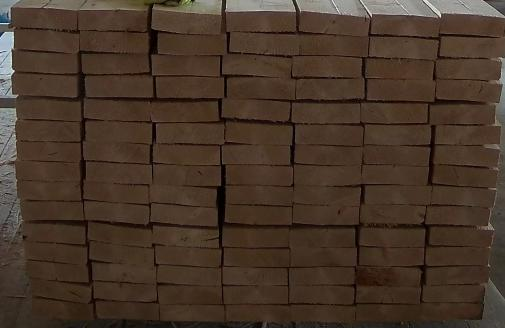Wood-Plank: (11, 72, 80, 98), (371, 36, 440, 60), (223, 54, 292, 78), (12, 50, 80, 74), (85, 74, 153, 98), (153, 9, 221, 33), (230, 31, 300, 54), (300, 33, 369, 56), (299, 11, 367, 34), (16, 96, 81, 120), (151, 203, 218, 226), (371, 13, 438, 36), (158, 32, 227, 54), (156, 122, 225, 144), (435, 144, 501, 167), (14, 28, 77, 52), (297, 78, 365, 100), (152, 100, 220, 122), (226, 10, 294, 32), (437, 80, 504, 102), (368, 80, 435, 102), (223, 100, 290, 122), (225, 122, 292, 144), (85, 122, 152, 144), (293, 57, 363, 78), (31, 280, 92, 304), (437, 58, 503, 80), (86, 162, 152, 184), (83, 142, 149, 164), (150, 185, 216, 207), (153, 226, 219, 248), (224, 226, 290, 248), (80, 8, 146, 30), (151, 55, 220, 76), (227, 79, 296, 100), (153, 165, 222, 186), (222, 144, 291, 165), (15, 160, 80, 182), (89, 242, 154, 264), (84, 182, 149, 204), (10, 8, 75, 30), (156, 77, 224, 98), (293, 103, 361, 124), (434, 166, 498, 188), (155, 247, 222, 268), (226, 205, 293, 226), (295, 165, 362, 186), (444, 11, 505, 34), (442, 36, 505, 58), (88, 224, 151, 246), (84, 203, 150, 224), (430, 225, 496, 246), (81, 54, 150, 74), (291, 227, 356, 248), (23, 223, 85, 245), (80, 32, 148, 52), (226, 166, 294, 186), (366, 60, 433, 80), (362, 104, 429, 124), (296, 126, 363, 146), (363, 166, 430, 186), (84, 100, 150, 120), (431, 104, 497, 124), (294, 206, 360, 226), (434, 186, 496, 207), (360, 227, 425, 247), (366, 125, 430, 145), (16, 122, 80, 142), (16, 142, 80, 162), (92, 264, 156, 284), (153, 145, 220, 164), (365, 186, 432, 205), (94, 282, 157, 302), (226, 186, 292, 205), (24, 244, 86, 264), (157, 266, 219, 286), (436, 125, 501, 144), (224, 249, 289, 268), (291, 248, 356, 267), (27, 262, 88, 282), (158, 286, 222, 305), (224, 286, 288, 305), (365, 146, 429, 165), (358, 267, 422, 286), (427, 247, 491, 266), (428, 207, 492, 226), (295, 146, 362, 164), (32, 300, 92, 320), (20, 202, 83, 221), (290, 268, 356, 286), (295, 187, 360, 205), (360, 248, 425, 266), (17, 182, 81, 200), (362, 206, 426, 224), (357, 304, 421, 322), (96, 302, 159, 320), (427, 268, 490, 286), (160, 305, 225, 322), (223, 269, 288, 286), (290, 287, 354, 304), (226, 306, 291, 322), (424, 286, 484, 303), (291, 306, 354, 322), (357, 288, 420, 304), (422, 304, 484, 320)
